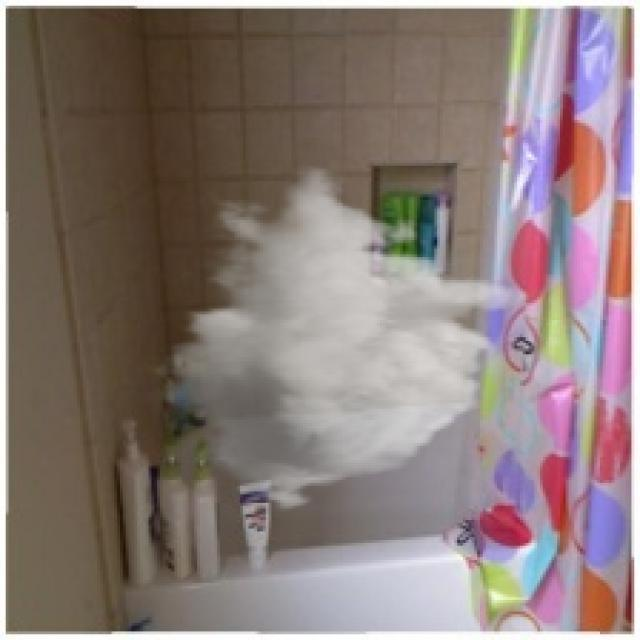Smoke: (145, 166, 526, 514)
